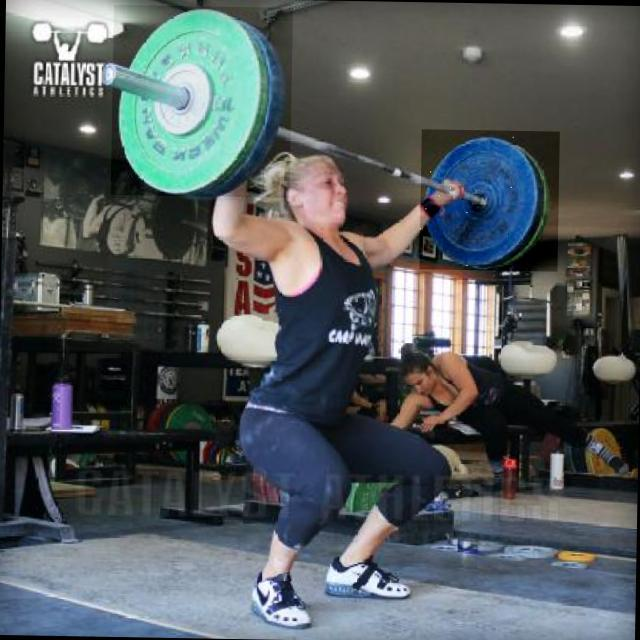barbell: (112, 6, 294, 199), (420, 130, 560, 272)
